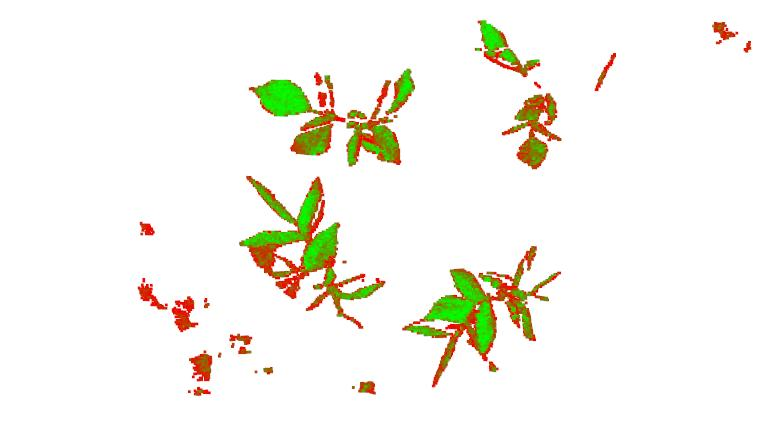mungbean: (238, 170, 384, 332), (410, 247, 565, 392), (250, 59, 418, 168), (473, 19, 564, 168)
